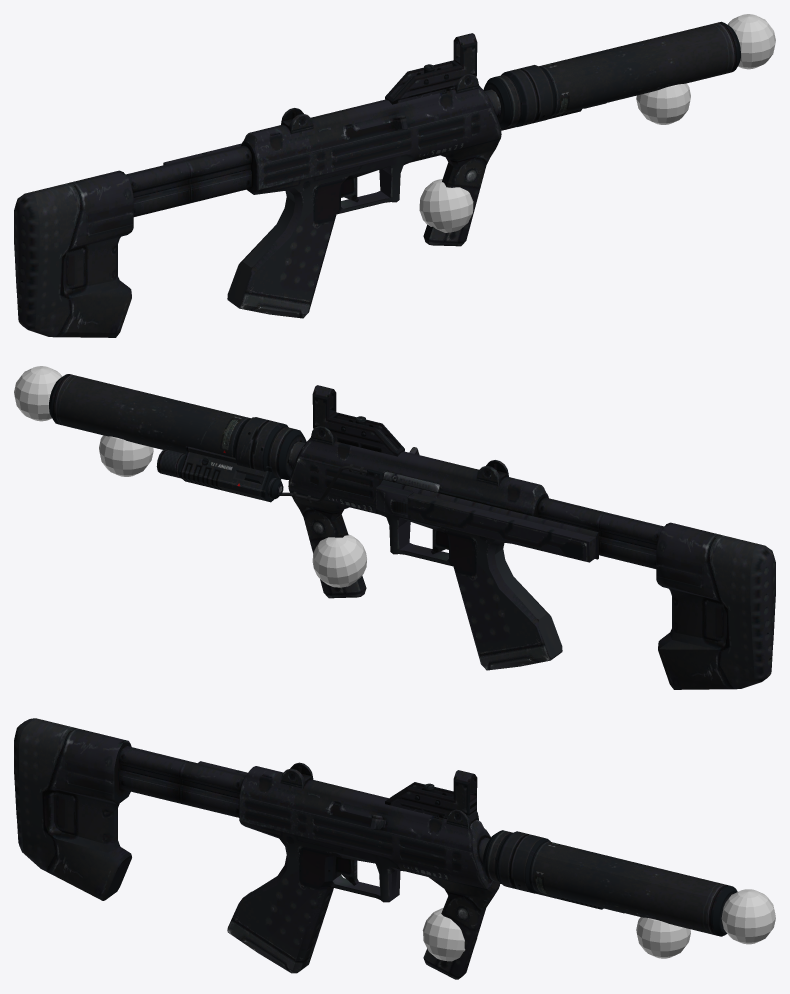
The model's file is FP Silenced SMG.obj.
The picture shows the model from 3 angles, top to bottom: view 1: azimuth 30°, elevation 25°; view 2: azimuth 150°, elevation 25°; view 3: azimuth 330°, elevation 25°; orthographic projection.
Parts seen in each view (by area): view 1: fa_dare_follow_04_fa_dare_follow_041, left_hand, primary_trigger, flashlight; view 2: fa_dare_follow_04_fa_dare_follow_041, left_hand, primary_trigger, flashlight; view 3: fa_dare_follow_04_fa_dare_follow_041, primary_trigger, flashlight, left_hand.
Part boxes in pixels (bbox=[...]): fa_dare_follow_04_fa_dare_follow_041: bbox=[14, 21, 740, 337]; left_hand: bbox=[419, 179, 473, 232]; primary_trigger: bbox=[727, 14, 775, 69]; flashlight: bbox=[636, 83, 690, 124]; fa_dare_follow_04_fa_dare_follow_041: bbox=[49, 374, 775, 689]; left_hand: bbox=[312, 534, 366, 587]; primary_trigger: bbox=[14, 366, 62, 421]; flashlight: bbox=[99, 435, 153, 476]; fa_dare_follow_04_fa_dare_follow_041: bbox=[14, 718, 737, 979]; primary_trigger: bbox=[721, 889, 775, 944]; flashlight: bbox=[636, 917, 690, 958]; left_hand: bbox=[422, 907, 477, 961].
Size of the model in its own units: 31.47 by 9.5 by 2.64.
Materials: 3 (2 with a texture image).
